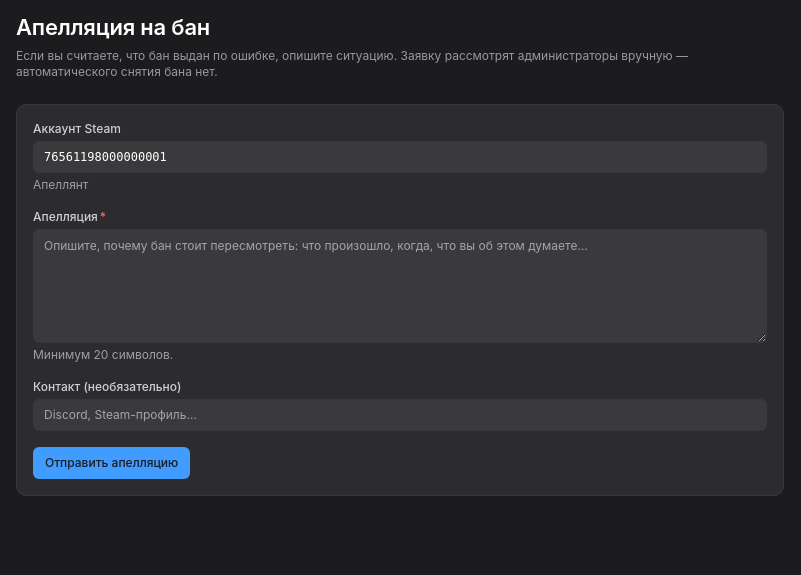
Test case: PublicAppealPage › blocks submit when the body is too short
Check: the field showing "76561198000000001" is shown, box [33,141,767,173]
Replace the text in the text box with placeholder "Опишите, почему" with "разбань" at (400, 286), box [33,229,767,343]
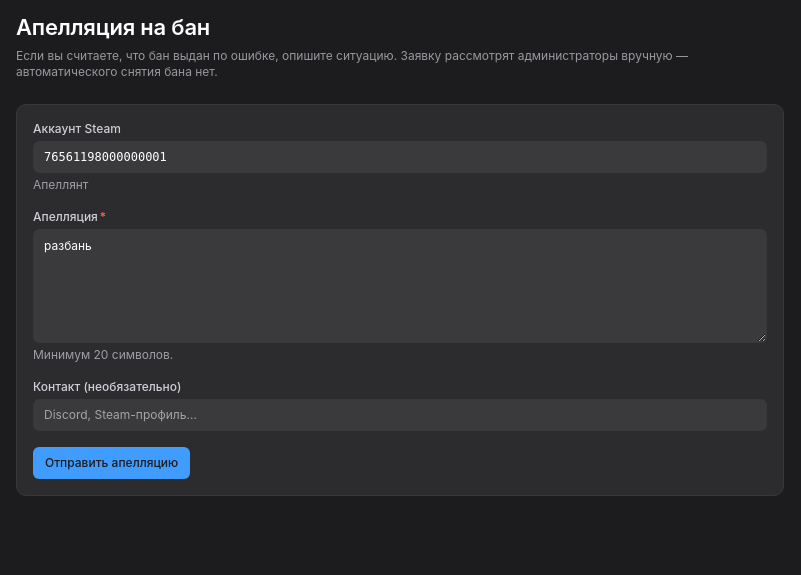
Click the button "Отправить апелляцию" at (112, 463), box [33,447,190,479]
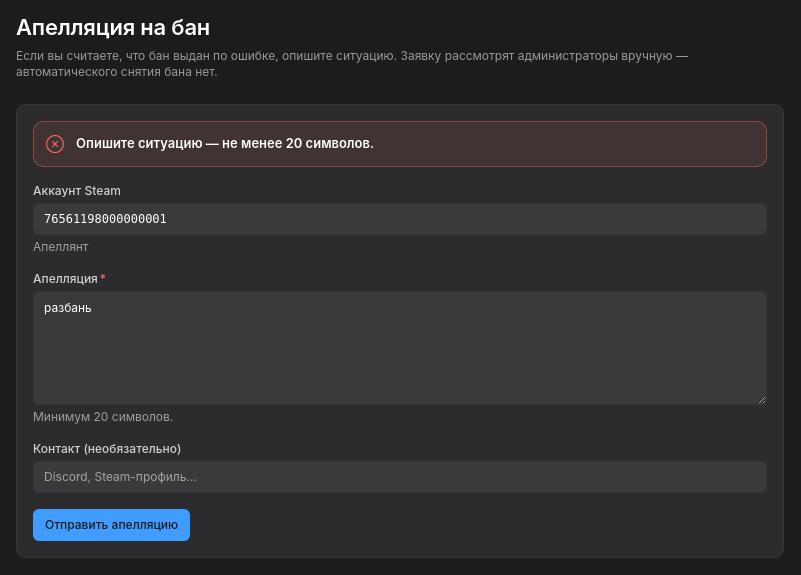
Check: the text "Опишите ситуацию — не менее 20 символов." is shown, box [76,135,374,151]
